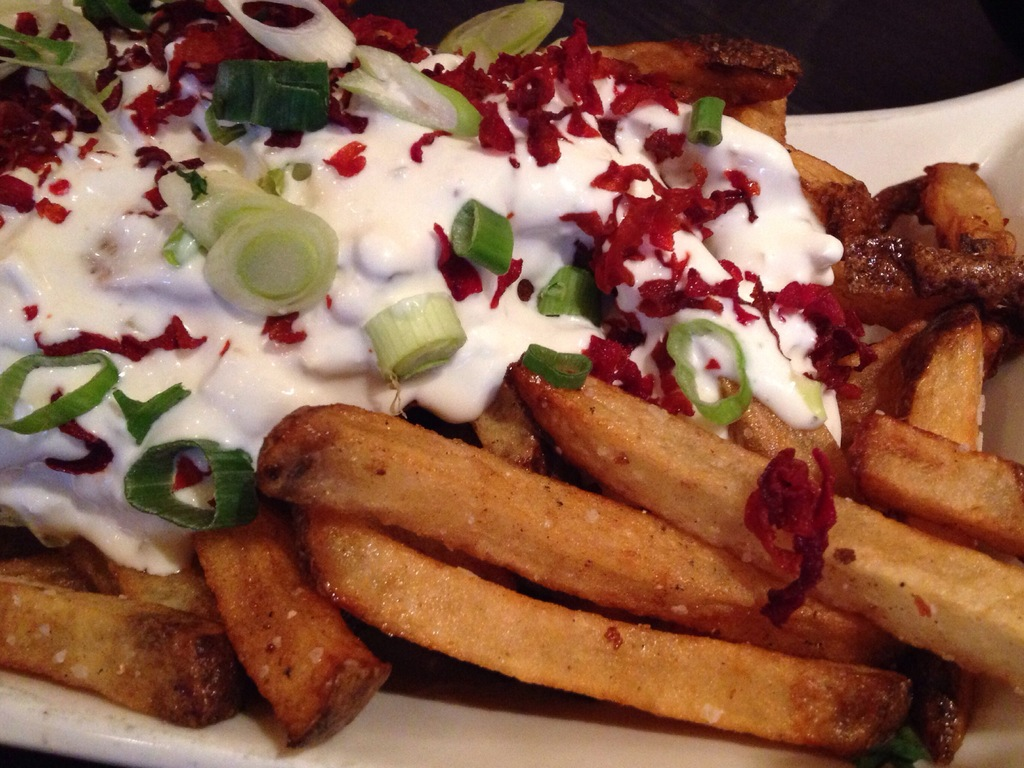French fries: (0, 23, 1023, 767)
